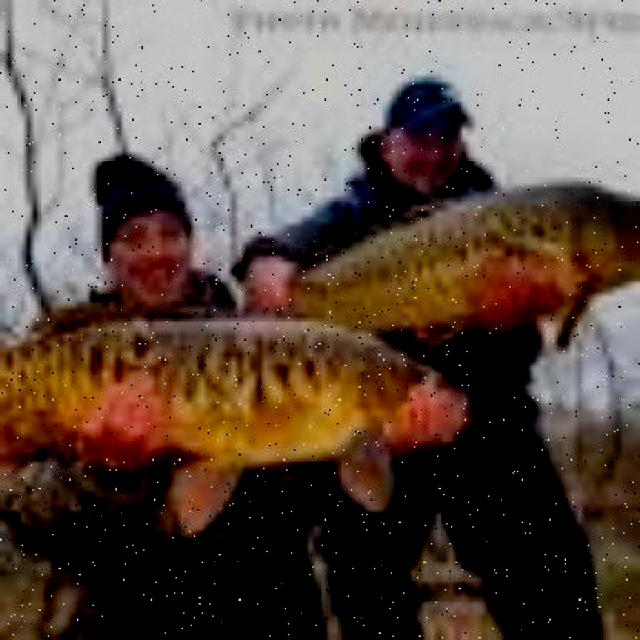ikan-mas: (0, 300, 437, 466), (281, 174, 630, 338)
